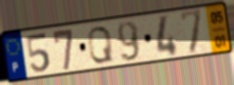4: (155, 13, 179, 58)
5: (25, 31, 52, 74)
7: (179, 8, 204, 57), (51, 27, 76, 72)
9: (117, 20, 142, 62)
Q: (87, 25, 116, 65)
